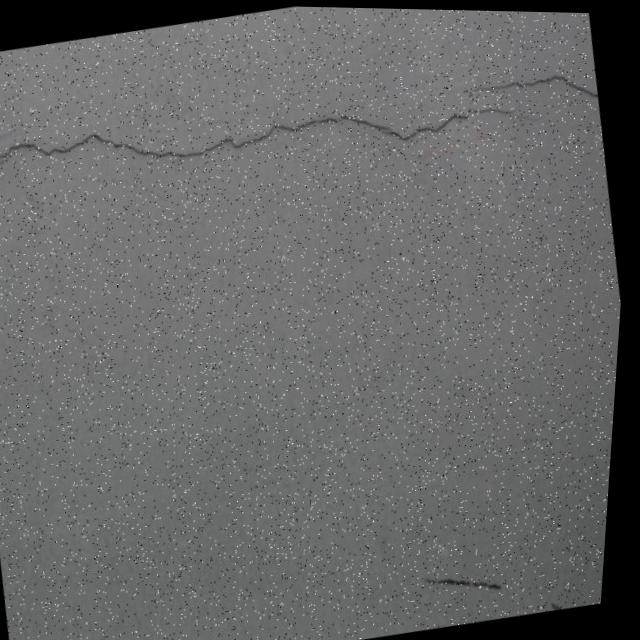Crack: (0, 26, 608, 239)
